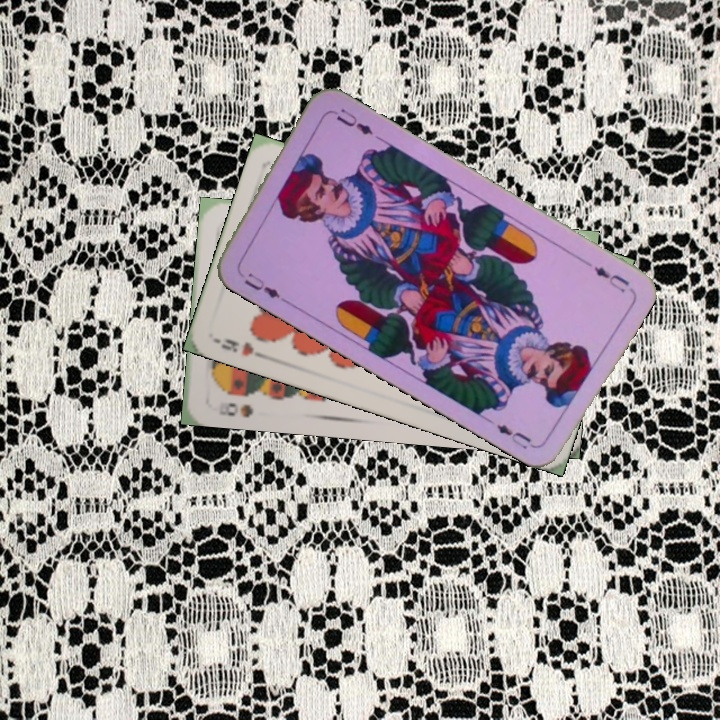EU: (240, 268, 289, 305), (590, 262, 632, 295)
H9: (217, 334, 269, 362)
S8: (223, 399, 256, 421)
